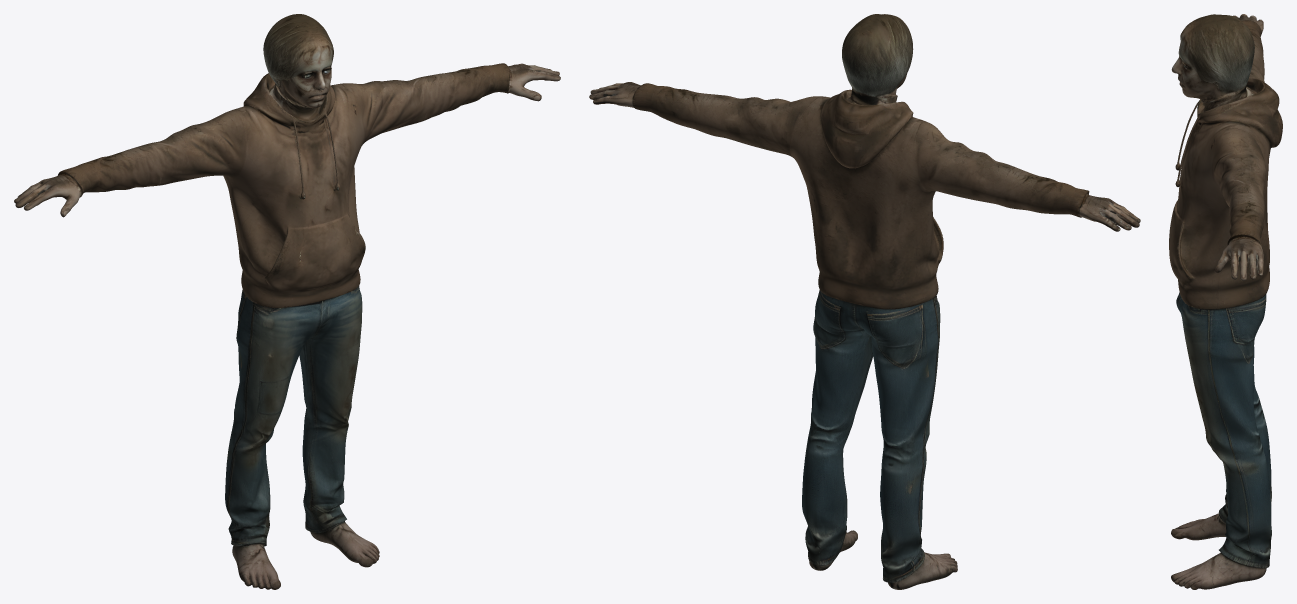
File: Meshy_AI_Arms_Wide_in_Desolati_0517012835_texture.glb
3 renders of one model, left to right at view 1: azimuth 30°, elevation 25°; view 2: azimuth 150°, elevation 25°; view 3: azimuth 270°, elevation 25°, orthographic.
Bounding box in the file's own units: 1.9 × 1.82 × 0.3461.
Materials: 1 (1 with a texture image).
